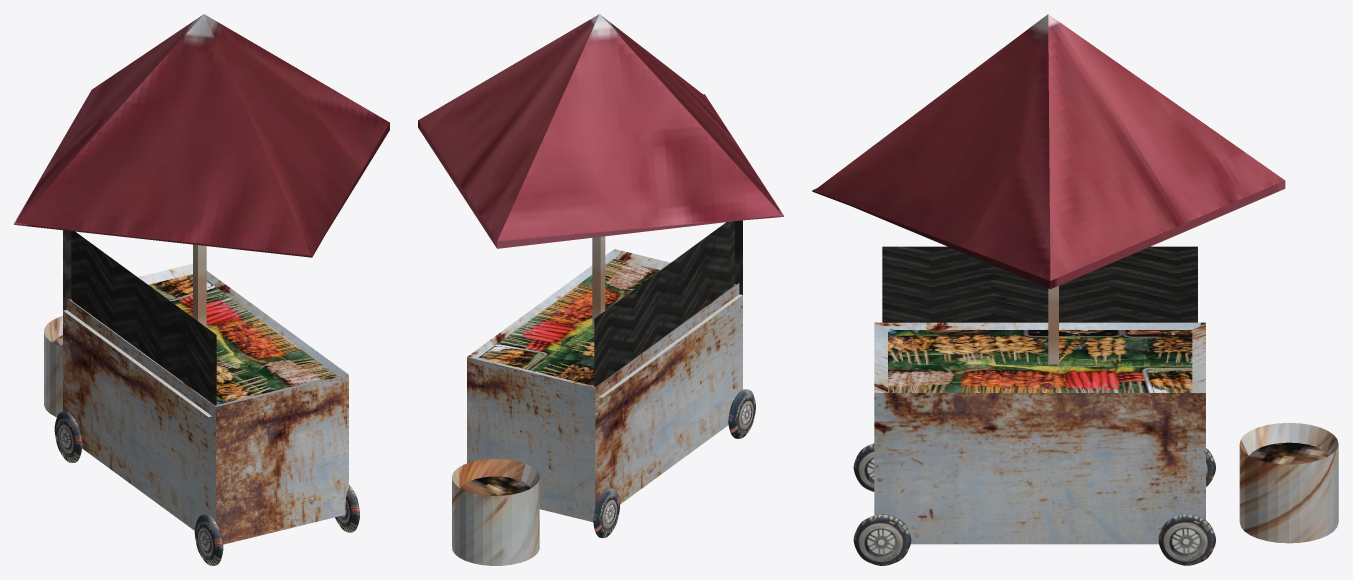
File: StreetFoodCart.fbx
The picture shows the model from 3 angles, left to right: view 1: azimuth 30°, elevation 25°; view 2: azimuth 150°, elevation 25°; view 3: azimuth 270°, elevation 25°; orthographic projection. The views are drawn at different scales.
Parts seen in each view (by area): view 1: Cube, Circle, Circle.004, Circle.001; view 2: Cube, Circle, Circle.001, Circle.004; view 3: Cube, Circle, Circle.001, Circle.004.
Part boxes in pixels (x1,y1,x2,y2): Cube: (63,230,348,544); Circle: (14,14,389,327); Circle.004: (54,411,359,565); Circle.001: (44,316,62,417); Cube: (467,220,742,521); Circle: (418,14,783,327); Circle.001: (452,459,539,565); Circle.004: (593,389,755,538); Cube: (874,246,1205,544); Circle: (812,14,1285,364); Circle.001: (1239,423,1338,543); Circle.004: (853,443,1215,565).
Size of the model in its own units: 567 by 685 by 631.
4 materials, 4 textured.
